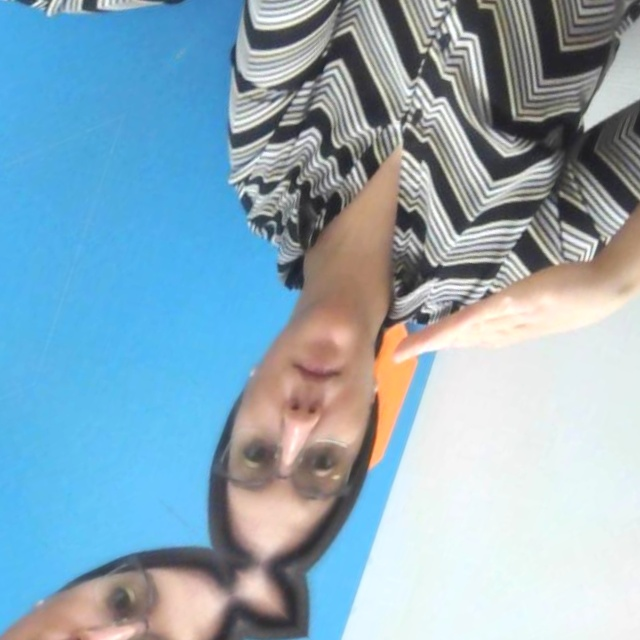Paper: (365, 157, 640, 482)
